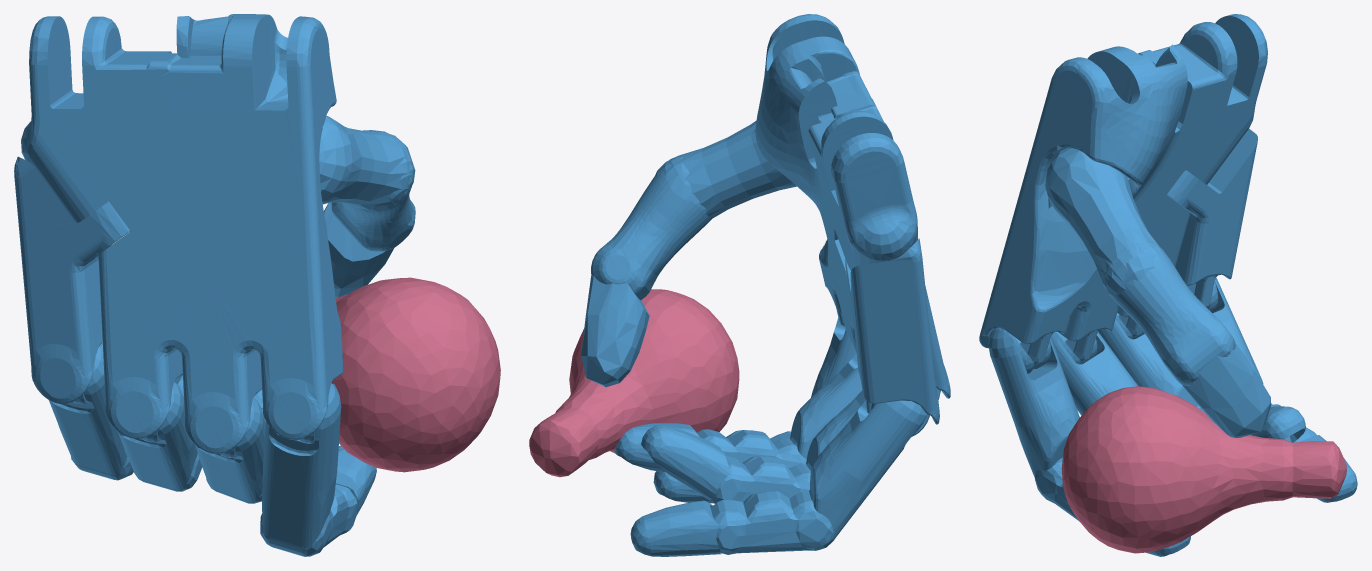
3 renders of one model, left to right at view 1: azimuth 30°, elevation 25°; view 2: azimuth 150°, elevation 25°; view 3: azimuth 270°, elevation 25°, orthographic. The views are drawn at different scales.
Parts seen in each view (by area): view 1: 5; view 2: 5; view 3: 5.
Part boxes in pixels (x1,y1,x2,y2): 5: (14, 14, 500, 556); 5: (529, 14, 950, 556); 5: (979, 14, 1357, 556).
Size of the model in its own units: 0.1325 by 0.1595 by 0.119.
